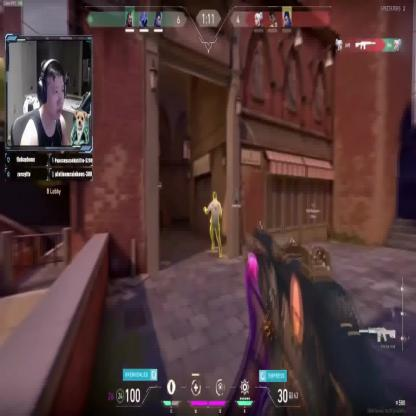enemy: (203, 192, 222, 258)
enemy_head: (212, 192, 217, 202)
